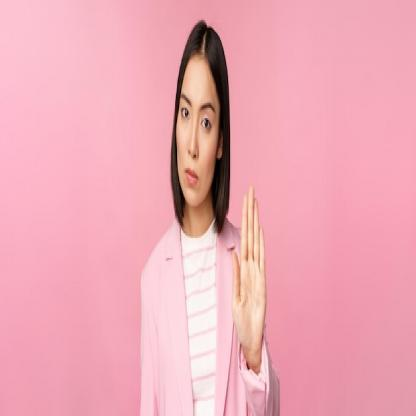stop: (228, 178, 268, 359)
